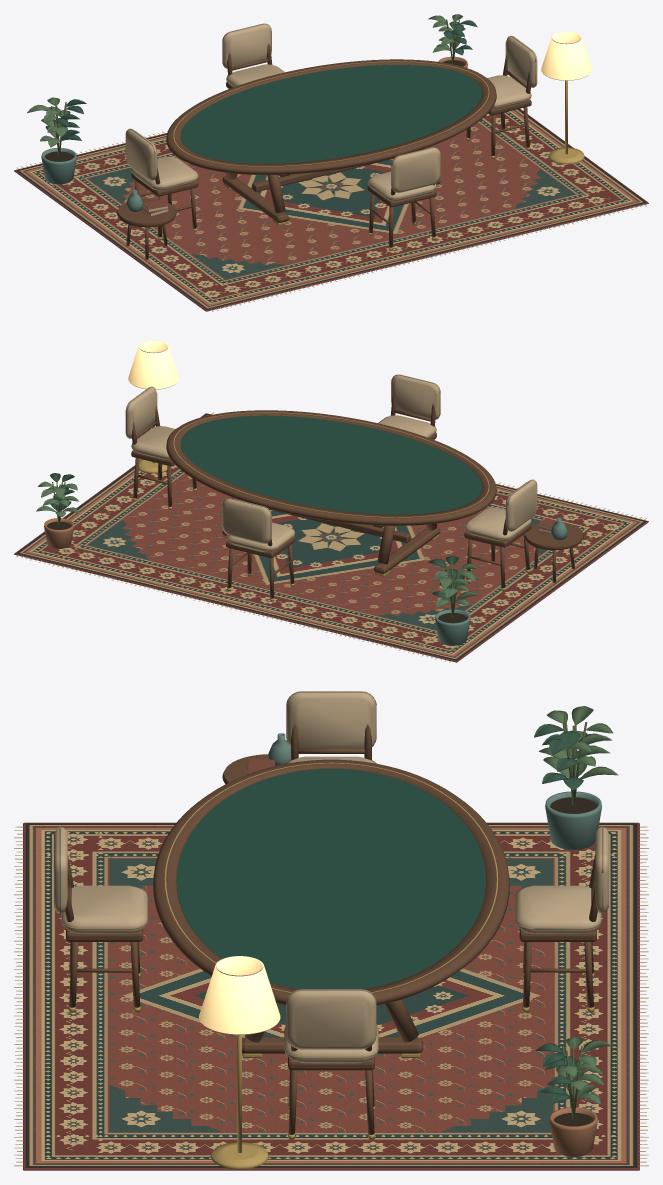
File: persian-lounge-menu.glb
The picture shows the model from 3 angles, top to bottom: view 1: azimuth 30°, elevation 25°; view 2: azimuth 150°, elevation 25°; view 3: azimuth 270°, elevation 25°; orthographic projection. The views are drawn at different scales.
Visible parts, largest first — view 1: Rug | Persian woven rug.002, Table | forest wool baize.002, Table | oiled walnut.002, ChairSouth | UpholsterySouth.002, ChairNorth | UpholsteryNorth.002, ChairWest | UpholsteryWest.002, ChairEast | UpholsteryEast.002, Decor | illuminated linen.002, Rug | rug binding.002, Decor | leaf face.002, Decor | celadon ceramic.002, Decor | oiled walnut.002 (+7 smaller); view 2: Rug | Persian woven rug.002, Table | forest wool baize.002, Table | oiled walnut.002, ChairNorth | UpholsteryNorth.002, ChairSouth | UpholsterySouth.002, ChairWest | UpholsteryWest.002, ChairEast | UpholsteryEast.002, Rug | rug binding.002, Decor | illuminated linen.002, Decor | leaf face.002, Decor | oiled walnut.002, Decor | celadon ceramic.002 (+7 smaller); view 3: Rug | Persian woven rug.002, Table | forest wool baize.002, Table | oiled walnut.002, ChairEast | UpholsteryEast.002, ChairWest | UpholsteryWest.002, Decor | illuminated linen.002, ChairSouth | UpholsterySouth.002, ChairNorth | UpholsteryNorth.002, Rug | rug binding.002, Decor | leaf face.002, Decor | celadon ceramic.002, Rug | rug fringe.002 (+10 smaller).
Part boxes in pixels (bbox=[...]): Rug | Persian woven rug.002: bbox=[16, 109, 646, 309]; Table | forest wool baize.002: bbox=[180, 65, 482, 163]; Table | oiled walnut.002: bbox=[166, 59, 496, 222]; ChairSouth | UpholsterySouth.002: bbox=[368, 147, 440, 201]; ChairNorth | UpholsteryNorth.002: bbox=[222, 23, 284, 87]; ChairWest | UpholsteryWest.002: bbox=[125, 128, 198, 190]; ChairEast | UpholsteryEast.002: bbox=[487, 36, 537, 108]; Decor | illuminated linen.002: bbox=[541, 31, 591, 80]; Rug | rug binding.002: bbox=[14, 108, 648, 311]; Decor | leaf face.002: bbox=[27, 14, 465, 147]; Decor | celadon ceramic.002: bbox=[41, 148, 142, 212]; Decor | oiled walnut.002: bbox=[117, 199, 176, 259]; Rug | Persian woven rug.002: bbox=[16, 413, 646, 660]; Table | forest wool baize.002: bbox=[181, 415, 482, 514]; Table | oiled walnut.002: bbox=[166, 410, 496, 573]; ChairNorth | UpholsteryNorth.002: bbox=[222, 498, 294, 552]; ChairSouth | UpholsterySouth.002: bbox=[378, 374, 440, 437]; ChairWest | UpholsteryWest.002: bbox=[464, 479, 537, 541]; ChairEast | UpholsteryEast.002: bbox=[125, 387, 175, 459]; Rug | rug binding.002: bbox=[14, 413, 648, 662]; Decor | illuminated linen.002: bbox=[128, 340, 178, 389]; Decor | leaf face.002: bbox=[36, 481, 479, 607]; Decor | oiled walnut.002: bbox=[524, 522, 583, 582]; Decor | celadon ceramic.002: bbox=[435, 517, 567, 645]; Rug | Persian woven rug.002: bbox=[25, 823, 637, 1167]; Table | forest wool baize.002: bbox=[176, 768, 486, 989]; Table | oiled walnut.002: bbox=[153, 759, 509, 1053]; ChairEast | UpholsteryEast.002: bbox=[285, 989, 377, 1063]; ChairWest | UpholsteryWest.002: bbox=[286, 691, 376, 763]; Decor | illuminated linen.002: bbox=[199, 956, 280, 1034]; ChairSouth | UpholsterySouth.002: bbox=[54, 827, 147, 933]; ChairNorth | UpholsteryNorth.002: bbox=[515, 827, 608, 933]; Rug | rug binding.002: bbox=[23, 822, 639, 1170]; Decor | leaf face.002: bbox=[539, 706, 618, 1103]; Decor | celadon ceramic.002: bbox=[268, 733, 601, 849]; Rug | rug fringe.002: bbox=[14, 826, 648, 1166].
Bounding box in the file's own units: 16.64 × 4.19 × 12.46.
22 materials, 1 textured.
